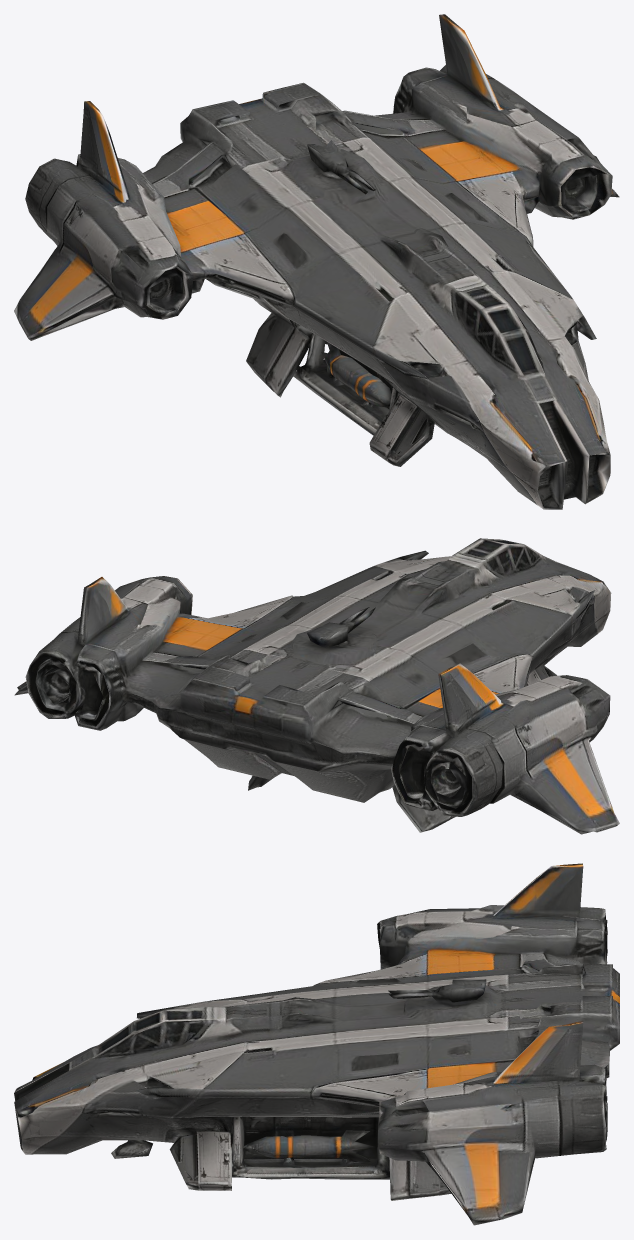
The model's file is bomber-high.glb.
3 views of the same model, one above another, from view 1: azimuth 30°, elevation 25°; view 2: azimuth 150°, elevation 25°; view 3: azimuth 270°, elevation 25° (orthographic). The views are drawn at different scales.
Visible parts, largest first — view 1: tripo_node_b21cd7b0-41f3-4142-85ea-07858848de1f; view 2: tripo_node_b21cd7b0-41f3-4142-85ea-07858848de1f; view 3: tripo_node_b21cd7b0-41f3-4142-85ea-07858848de1f.
Part boxes in pixels (bbox=[...]): tripo_node_b21cd7b0-41f3-4142-85ea-07858848de1f: bbox=[14, 14, 619, 509]; tripo_node_b21cd7b0-41f3-4142-85ea-07858848de1f: bbox=[14, 538, 619, 834]; tripo_node_b21cd7b0-41f3-4142-85ea-07858848de1f: bbox=[14, 863, 619, 1225].
Size of the model in its own units: 1.65 by 0.6416 by 1.62.
Materials: 1 (1 with a texture image).
